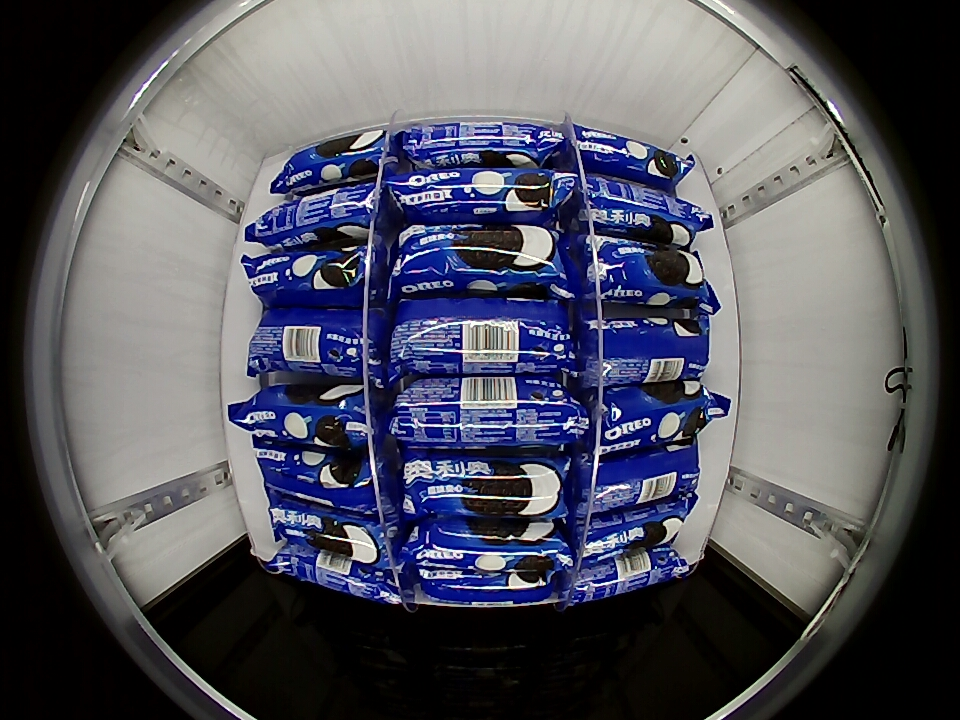aoliao: (390, 296, 574, 379), (388, 376, 586, 453), (388, 223, 566, 297), (399, 450, 569, 520), (389, 165, 567, 226), (579, 234, 711, 307), (405, 520, 573, 577), (247, 307, 375, 380), (582, 314, 711, 385), (240, 242, 378, 308), (580, 173, 702, 246), (397, 116, 568, 168), (254, 179, 383, 246), (268, 491, 390, 561), (237, 384, 381, 442), (597, 385, 712, 453), (584, 446, 700, 513), (252, 445, 376, 507), (286, 543, 404, 607), (572, 122, 685, 188), (577, 498, 688, 565), (564, 545, 673, 608), (282, 128, 389, 191), (413, 566, 561, 608)
